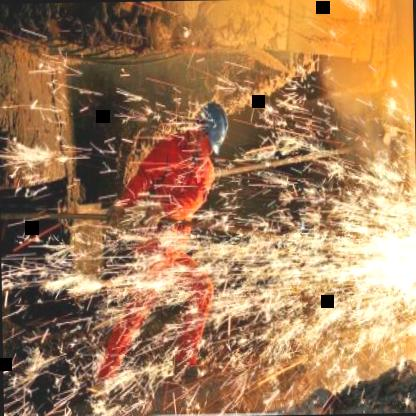helmet: (188, 94, 228, 167)
